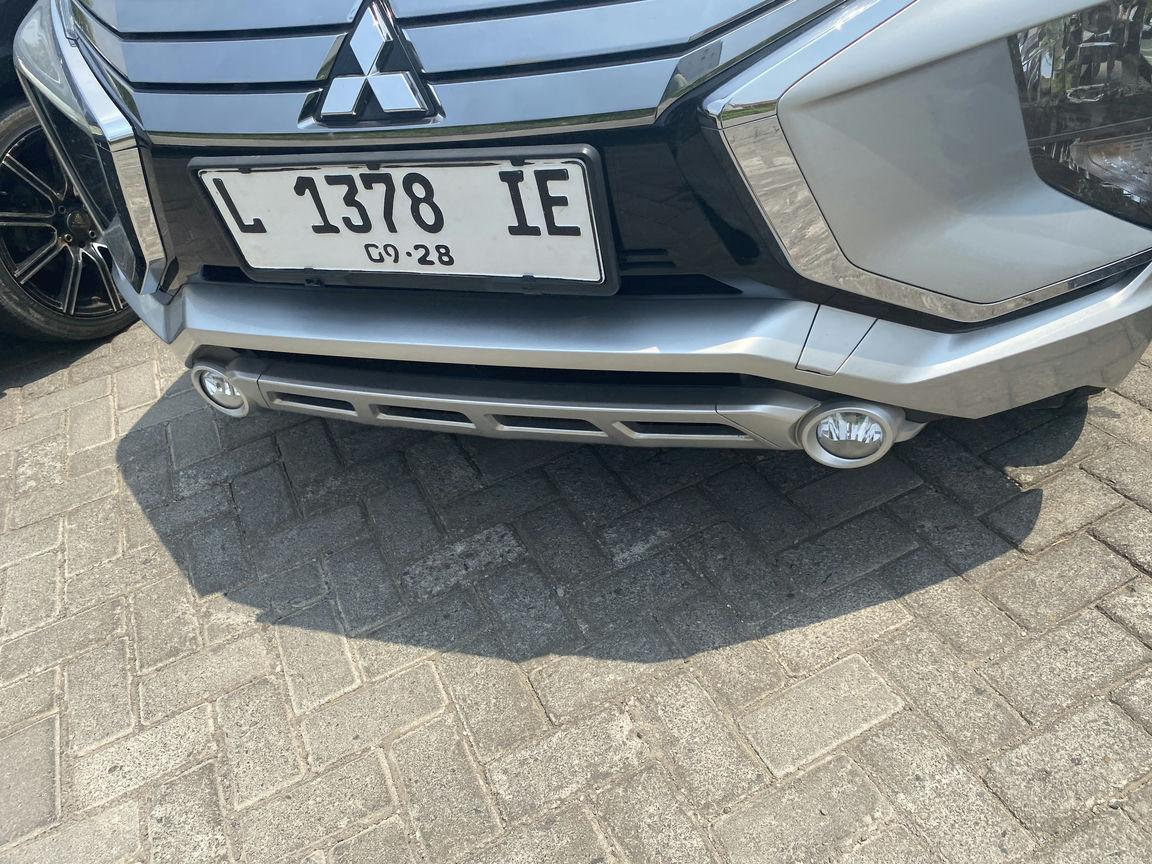plat: (200, 158, 603, 284)
